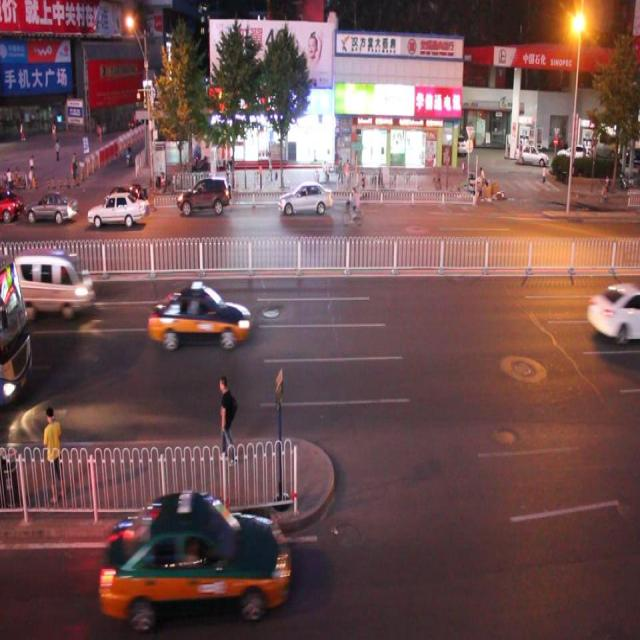car: (99, 492, 288, 620), (147, 282, 250, 347), (19, 247, 94, 320), (584, 281, 640, 340), (175, 175, 230, 216), (277, 179, 333, 219), (88, 191, 147, 227), (25, 188, 79, 226), (101, 180, 145, 223)
